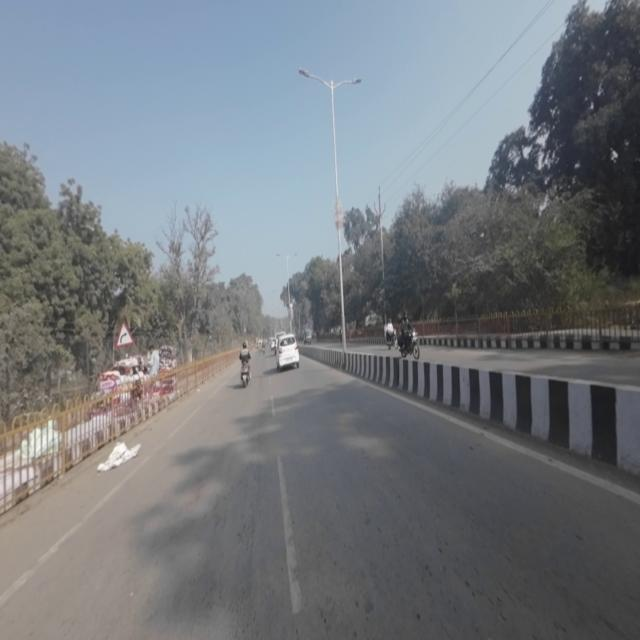Garbage: (95, 443, 142, 472)
